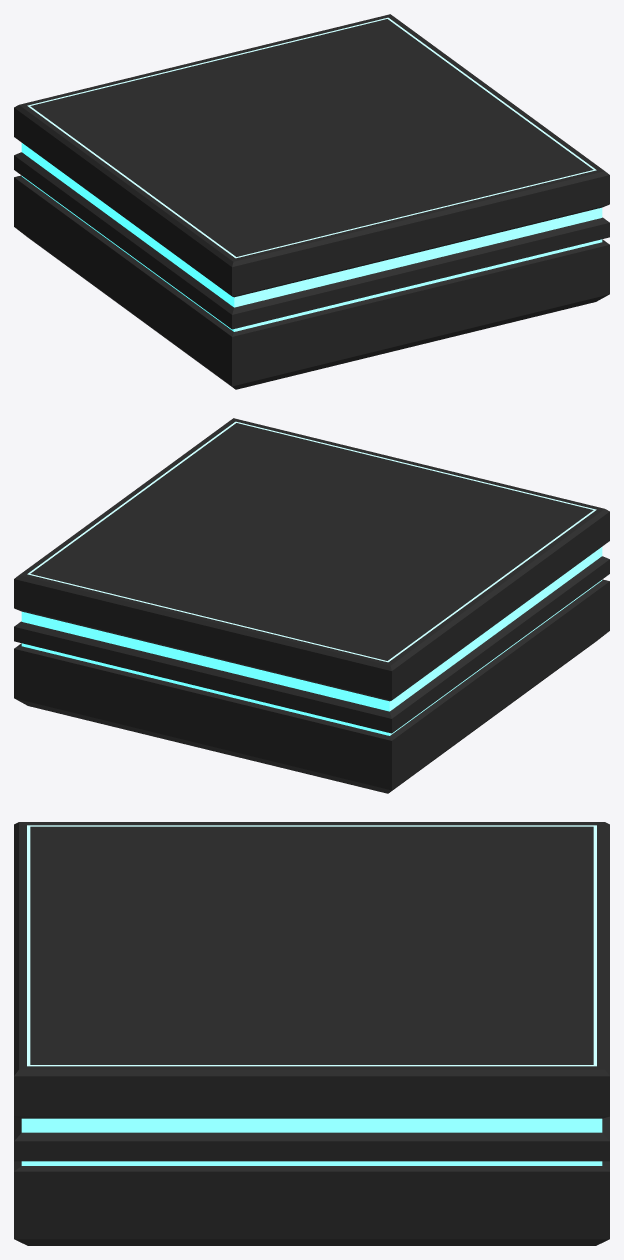
Rendered from Platform.fbx.
3 views of the same model, one above another, from view 1: azimuth 30°, elevation 25°; view 2: azimuth 150°, elevation 25°; view 3: azimuth 270°, elevation 25° (orthographic). The views are drawn at different scales.
Parts seen in each view (by area): view 1: Plataforma; view 2: Plataforma; view 3: Plataforma.
Boxes of the visible parts, x1=… form: Plataforma: x1=14, y1=14, x2=609, y2=389; Plataforma: x1=14, y1=418, x2=609, y2=793; Plataforma: x1=14, y1=822, x2=609, y2=1245.
Size of the model in its own units: 600 by 600 by 200.
